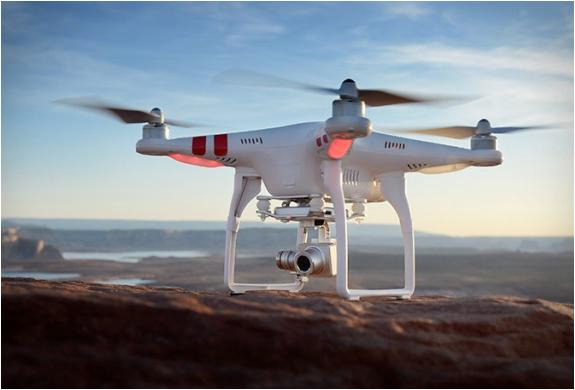drone: (102, 66, 513, 294)
